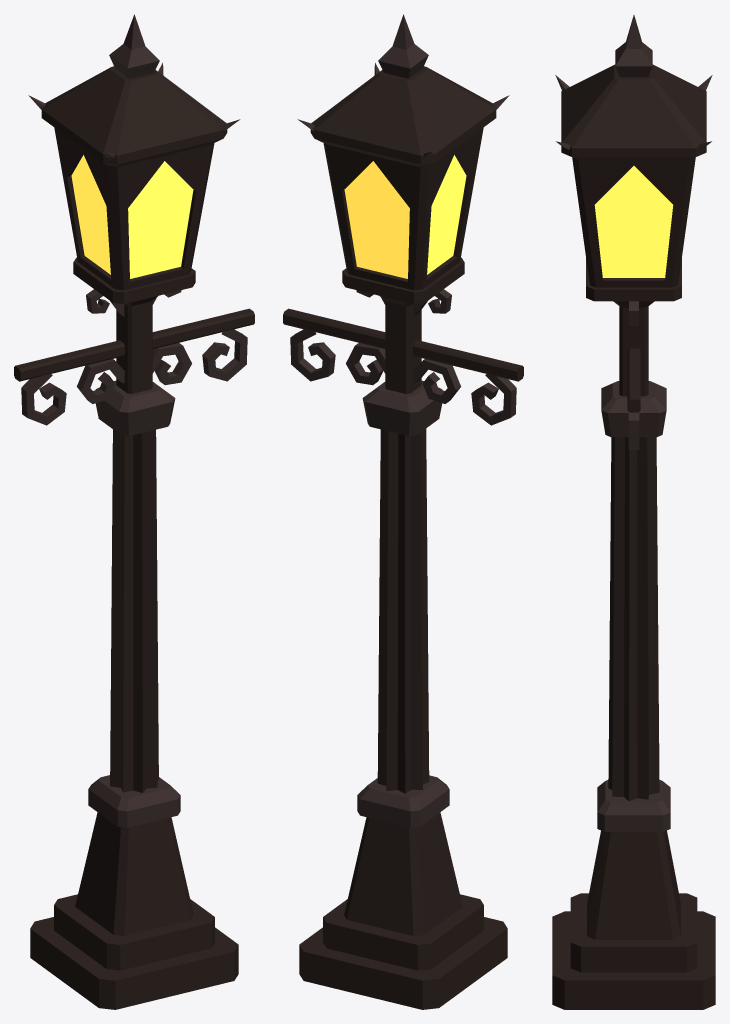
Rendered from cemetery-lantern-post-fed352.glb.
The picture shows the model from 3 angles, left to right: view 1: azimuth 30°, elevation 25°; view 2: azimuth 150°, elevation 25°; view 3: azimuth 270°, elevation 25°; orthographic projection.
Parts seen in each view (by area): view 1: post, lantern-panes; view 2: post, lantern-panes; view 3: post, lantern-panes.
Part boxes in pixels (left/top/right/bottom): post: left=14, top=14, right=254, bottom=1009; lantern-panes: left=71, top=155, right=193, bottom=278; post: left=283, top=14, right=523, bottom=1009; lantern-panes: left=344, top=155, right=466, bottom=278; post: left=552, top=15, right=715, bottom=1009; lantern-panes: left=594, top=166, right=673, bottom=277.
Size of the model in its own units: 0.67 by 2.6 by 0.4.
